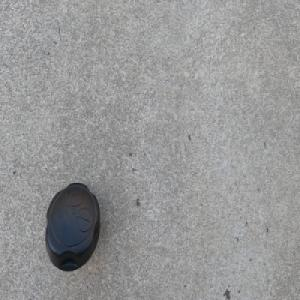FuelCap: (43, 180, 101, 273)
